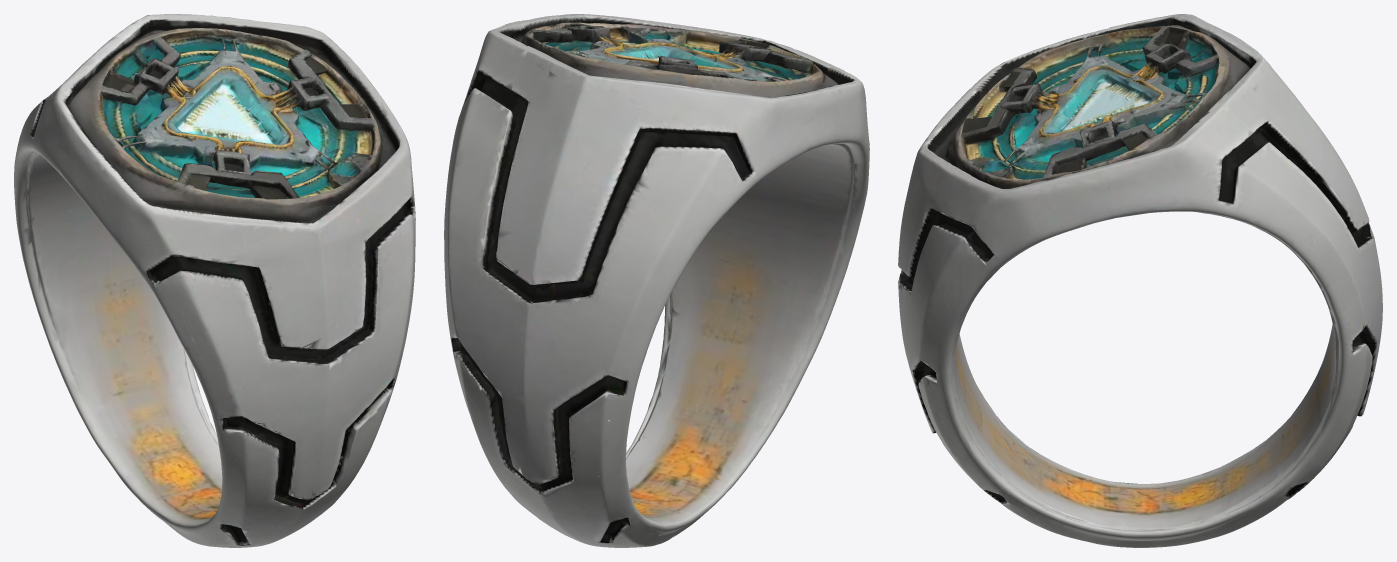
The model's file is ring3.glb.
3 renders of one model, left to right at view 1: azimuth 30°, elevation 25°; view 2: azimuth 150°, elevation 25°; view 3: azimuth 270°, elevation 25°, orthographic. The views are drawn at different scales.
Parts seen in each view (by area): view 1: tripo_node_9d925b2c-4089-45fa-8e41-053c6e184f2c; view 2: tripo_node_9d925b2c-4089-45fa-8e41-053c6e184f2c; view 3: tripo_node_9d925b2c-4089-45fa-8e41-053c6e184f2c.
Part boxes in pixels (x1,y1,x2,y2): tripo_node_9d925b2c-4089-45fa-8e41-053c6e184f2c: (14, 14, 415, 547); tripo_node_9d925b2c-4089-45fa-8e41-053c6e184f2c: (444, 14, 869, 547); tripo_node_9d925b2c-4089-45fa-8e41-053c6e184f2c: (898, 14, 1382, 547).
Size of the model in its own units: 0.6571 by 0.9799 by 0.8989.
1 material, 1 textured.
